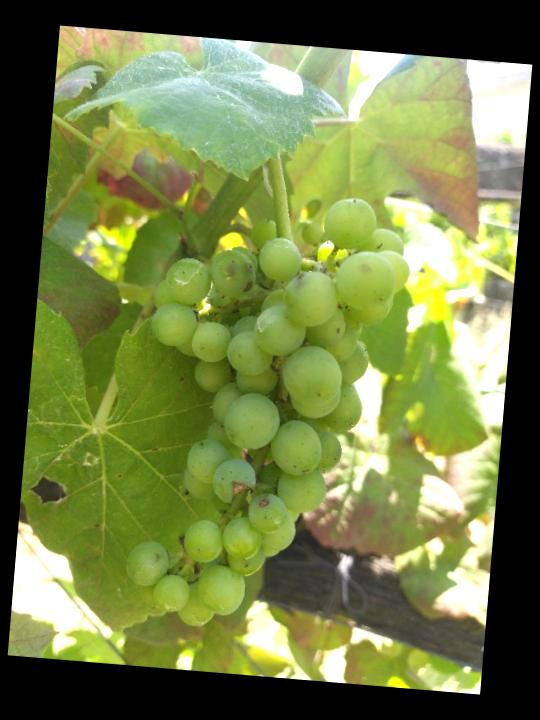grape: (116, 174, 420, 646)
